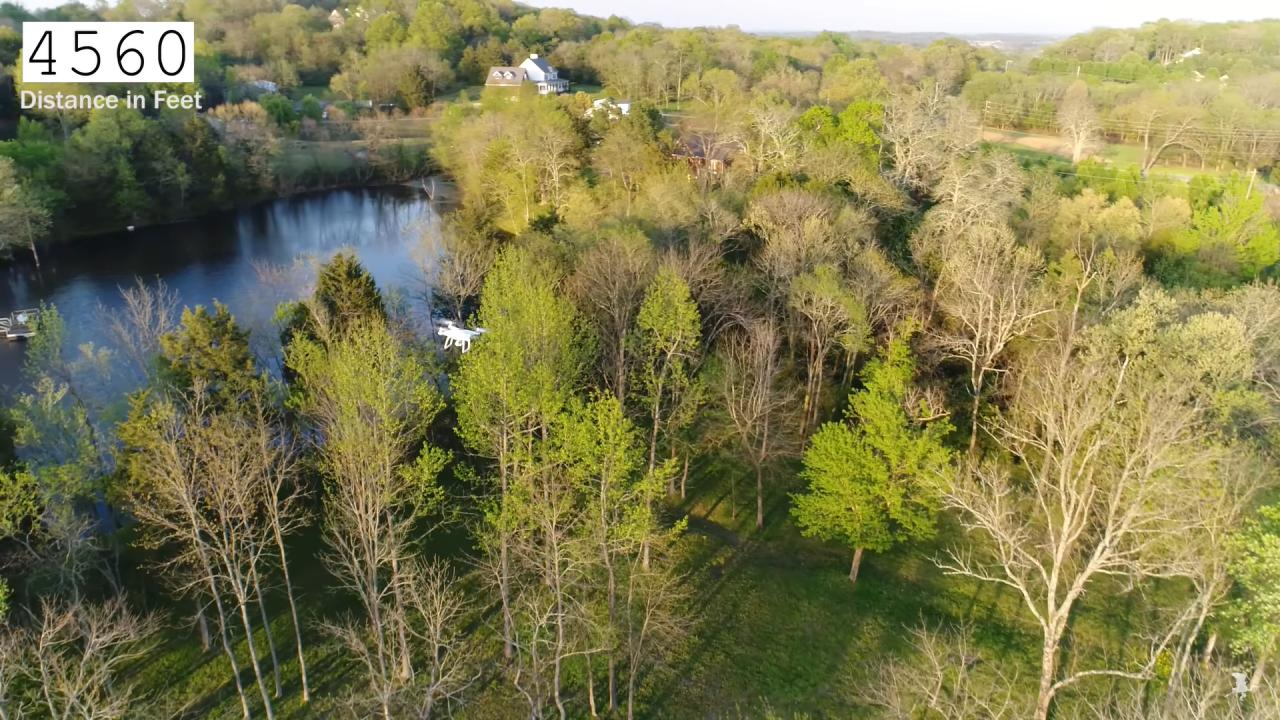Drone: (431, 309, 494, 357)
